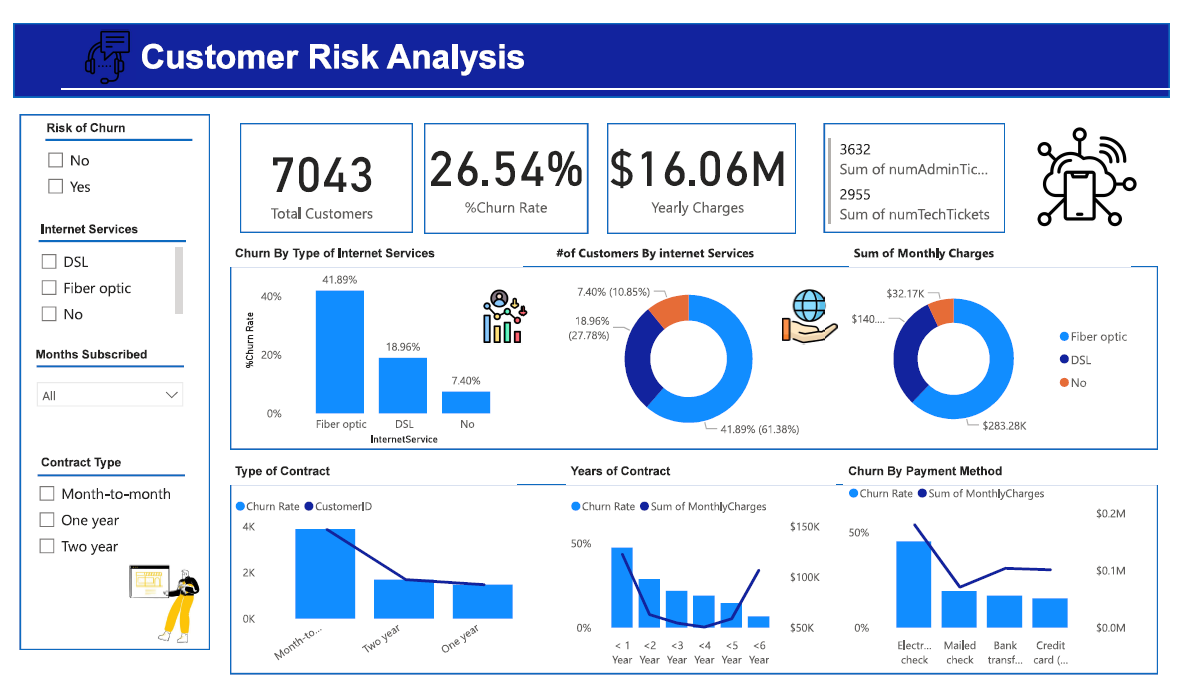

This screenshot's page, from the dashboard's own definition file:
{"tool":"powerbi","page":{"name":"Customer_Risk","canvas":[1280,720],"ordinal":1},"visuals":[{"type":"slicer","fields":{"Values":["01 Churn-Dataset.Churn"]},"box":[25.3,131.5,172.5,73.6],"z":0},{"type":"textbox","box":[31.4,101.3,160.4,26.5],"z":1000},{"type":"slicer","fields":{"Values":["01 Churn-Dataset.InternetService"]},"box":[18.1,243.6,173.7,95.3],"z":2000},{"type":"textbox","box":[239.5,82.5,159,150],"z":3000},{"type":"slicer","fields":{"Values":["01 Churn-Dataset.Tenure In Years"]},"box":[15.7,387.1,182.1,66.3],"z":4000},{"type":"slicer","fields":{"Values":["01 Churn-Dataset.Contract"]},"box":[15.7,500.5,174.9,132.7],"z":5000},{"type":"textbox","box":[25.3,213.5,164,26.5],"z":6000},{"type":"textbox","box":[19.3,352.2,171.3,26.5],"z":7000},{"type":"textbox","box":[25.3,471.6,150.8,26.5],"z":8000},{"type":"card","title":"Total Customers","fields":{"Values":["Count(01 Churn-Dataset.customerID)"]},"box":[250.9,111,180.9,120.6],"z":9000},{"type":"card","fields":{"Values":["01 Churn-Dataset.%Churn Rate"]},"box":[449.8,109.7,190.6,109.7],"z":10000},{"type":"card","fields":{"Values":["Sum(01 Churn-Dataset.TotalCharges)"]},"box":[648.8,109.7,217.1,109.7],"z":11000},{"type":"multiRowCard","fields":{"Values":["Sum(01 Churn-Dataset.numAdminTickets)","Sum(01 Churn-Dataset.numTechTickets)"]},"box":[897.3,123,191.8,103.7],"z":12000},{"type":"columnChart","fields":{"Y":["01 Churn-Dataset.%Churn Rate"],"Category":["01 Churn-Dataset.InternetService"]},"box":[250.9,255.7,312.4,215.9],"z":13000},{"type":"donutChart","fields":{"Category":["01 Churn-Dataset.InternetService"],"Y":["01 Churn-Dataset.%Churn Rate"]},"box":[597,271.4,300.3,200.2],"z":14000},{"type":"donutChart","fields":{"Y":["Sum(01 Churn-Dataset.MonthlyCharges)"],"Category":["01 Churn-Dataset.InternetService"]},"box":[919,271.4,328,200.2],"z":15000},{"type":"lineStackedColumnComboChart","fields":{"Category":["01 Churn-Dataset.Contract"],"Y":["CountNonNull(01 Churn-Dataset.Churn)"],"Y2":["CountNonNull(01 Churn-Dataset.customerID)"]},"box":[240,515,355.8,205],"z":16000},{"type":"lineStackedColumnComboChart","fields":{"Category":["01 Churn-Dataset.Tenure In Years"],"Y":["01 Churn-Dataset.%Churn Rate"],"Y2":["Sum(01 Churn-Dataset.MonthlyCharges)"]},"box":[611.5,515,285.8,205],"z":17000},{"type":"lineStackedColumnComboChart","fields":{"Category":["01 Churn-Dataset.PaymentMethod"],"Y":["01 Churn-Dataset.%Churn Rate"],"Y2":["Sum(01 Churn-Dataset.MonthlyCharges)"]},"box":[919,500.5,317.2,219.5],"z":18000},{"type":"shape","box":[0,0,1279.6,82],"z":19000},{"type":"shape","box":[7.2,101.3,209.8,592.2],"z":20000},{"type":"textbox","box":[106.1,10.9,505.3,53.1],"z":21000},{"type":"shape","box":[35,114.6,162.8,28.9],"z":22000},{"type":"shape","box":[27.7,226.7,162.8,28.9],"z":23000},{"type":"shape","box":[25.3,365.4,162.8,28.9],"z":24000},{"type":"shape","box":[26.5,486,162.8,28.9],"z":25000},{"type":"shape","box":[250.9,111,190.6,120.6],"z":26000},{"type":"shape","box":[454.7,111,180.9,121.8],"z":27000},{"type":"shape","box":[657.3,111,208.6,121.8],"z":28000},{"type":"shape","box":[897.3,111,200.2,120.6],"z":29000},{"type":"shape","box":[240,268.9,1026.3,202.6],"z":30000},{"type":"shape","box":[240,510.2,1026.3,209.8],"z":31000},{"type":"textbox","box":[240,481.2,317.2,28.9],"z":32000},{"type":"textbox","box":[611.5,481.2,297.9,28.9],"z":33000},{"type":"textbox","box":[919,481.2,347.3,28.9],"z":34000},{"type":"textbox","box":[240,240,323.2,28.9],"z":35000},{"type":"textbox","box":[595.8,240,290.7,27.7],"z":36000},{"type":"textbox","box":[925,240,311.2,28.9],"z":37000},{"type":"shape","box":[53.1,63.9,1226.5,18.1],"z":38000},{"type":"image","box":[1109.5,108.5,156.8,123],"z":39000},{"type":"image","box":[508.9,289.4,71.2,71.2],"z":40000},{"type":"image","box":[844.2,289.4,74.8,71.2],"z":41000},{"type":"image","box":[68.7,1.2,71.2,72.4],"z":42000},{"type":"image","box":[117,593.4,100.1,100.1],"z":43000}]}

Visuals, with their boxes on the page's 1280x720 design canvas (x1, y1, x2, y2). These are canvas units, not pixel positions in the 1181x692 screenshot, which may show the page scaled, cropped or inside an application window:
slicer - 01 Churn-Dataset.Churn: locate(25, 132, 198, 205)
textbox: locate(31, 101, 192, 128)
slicer - 01 Churn-Dataset.InternetService: locate(18, 244, 192, 339)
textbox: locate(240, 82, 398, 232)
slicer - 01 Churn-Dataset.Tenure In Years: locate(16, 387, 198, 453)
slicer - 01 Churn-Dataset.Contract: locate(16, 500, 191, 633)
textbox: locate(25, 214, 189, 240)
textbox: locate(19, 352, 191, 379)
textbox: locate(25, 472, 176, 498)
"Total Customers" card: locate(251, 111, 432, 232)
card - 01 Churn-Dataset.%Churn Rate: locate(450, 110, 640, 219)
card - Sum(01 Churn-Dataset.TotalCharges): locate(649, 110, 866, 219)
multiRowCard - Sum(01 Churn-Dataset.numAdminTickets) x Sum(01 Churn-Dataset.numTechTickets): locate(897, 123, 1089, 227)
columnChart - 01 Churn-Dataset.%Churn Rate x 01 Churn-Dataset.InternetService: locate(251, 256, 563, 472)
donutChart - 01 Churn-Dataset.InternetService x 01 Churn-Dataset.%Churn Rate: locate(597, 271, 897, 472)
donutChart - Sum(01 Churn-Dataset.MonthlyCharges) x 01 Churn-Dataset.InternetService: locate(919, 271, 1247, 472)
lineStackedColumnComboChart - 01 Churn-Dataset.Contract x CountNonNull(01 Churn-Dataset.Churn): locate(240, 515, 596, 720)
lineStackedColumnComboChart - 01 Churn-Dataset.Tenure In Years x 01 Churn-Dataset.%Churn Rate: locate(612, 515, 897, 720)
lineStackedColumnComboChart - 01 Churn-Dataset.PaymentMethod x 01 Churn-Dataset.%Churn Rate: locate(919, 500, 1236, 720)
shape: locate(0, 0, 1280, 82)
shape: locate(7, 101, 217, 694)
textbox: locate(106, 11, 611, 64)
shape: locate(35, 115, 198, 144)
shape: locate(28, 227, 190, 256)
shape: locate(25, 365, 188, 394)
shape: locate(26, 486, 189, 515)
shape: locate(251, 111, 442, 232)
shape: locate(455, 111, 636, 233)
shape: locate(657, 111, 866, 233)
shape: locate(897, 111, 1098, 232)
shape: locate(240, 269, 1266, 472)
shape: locate(240, 510, 1266, 720)
textbox: locate(240, 481, 557, 510)
textbox: locate(612, 481, 909, 510)
textbox: locate(919, 481, 1266, 510)
textbox: locate(240, 240, 563, 269)
textbox: locate(596, 240, 886, 268)
textbox: locate(925, 240, 1236, 269)
shape: locate(53, 64, 1280, 82)
image: locate(1110, 108, 1266, 232)
image: locate(509, 289, 580, 361)
image: locate(844, 289, 919, 361)
image: locate(69, 1, 140, 74)
image: locate(117, 593, 217, 694)
